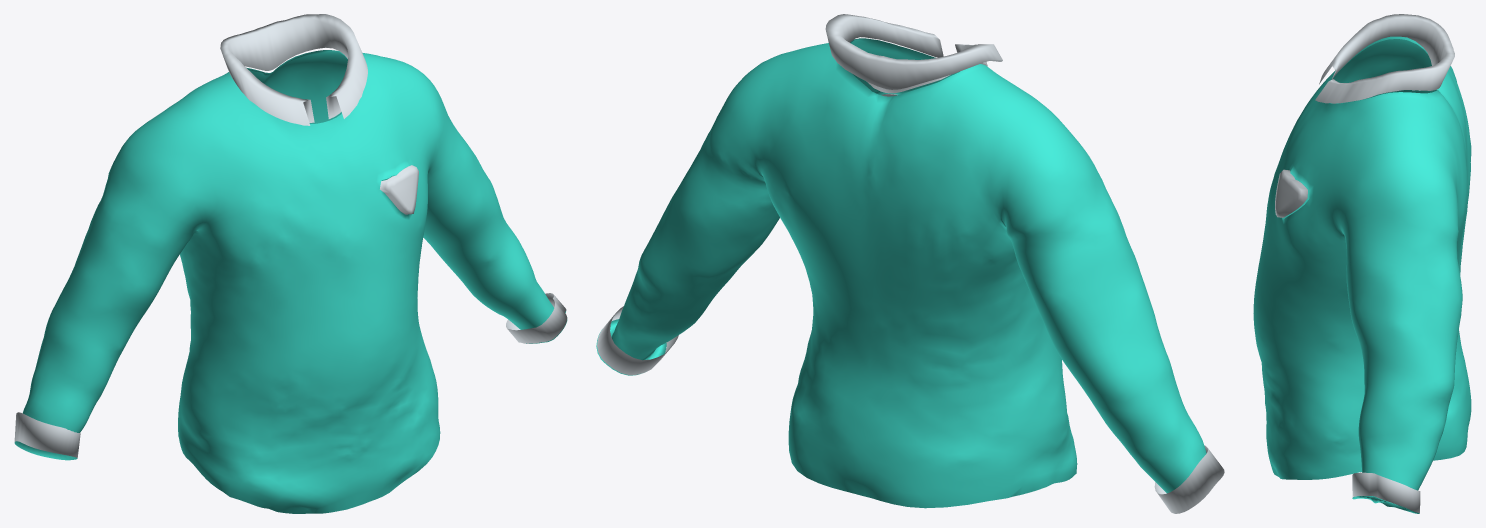
Rendered from Male-X-Large-shirtWithAbbi.glb.
The picture shows the model from 3 angles, left to right: view 1: azimuth 30°, elevation 25°; view 2: azimuth 150°, elevation 25°; view 3: azimuth 270°, elevation 25°; orthographic projection. The views are drawn at different scales.
Parts seen in each view (by area): view 1: Group1.036; view 2: Group1.036; view 3: Group1.036.
Part boxes in pixels (<box>): Group1.036: <box>14,14,567,513</box>; Group1.036: <box>596,14,1224,513</box>; Group1.036: <box>1253,14,1471,513</box>.
Bounding box in the file's own units: 1.84 × 1.37 × 0.6459.
